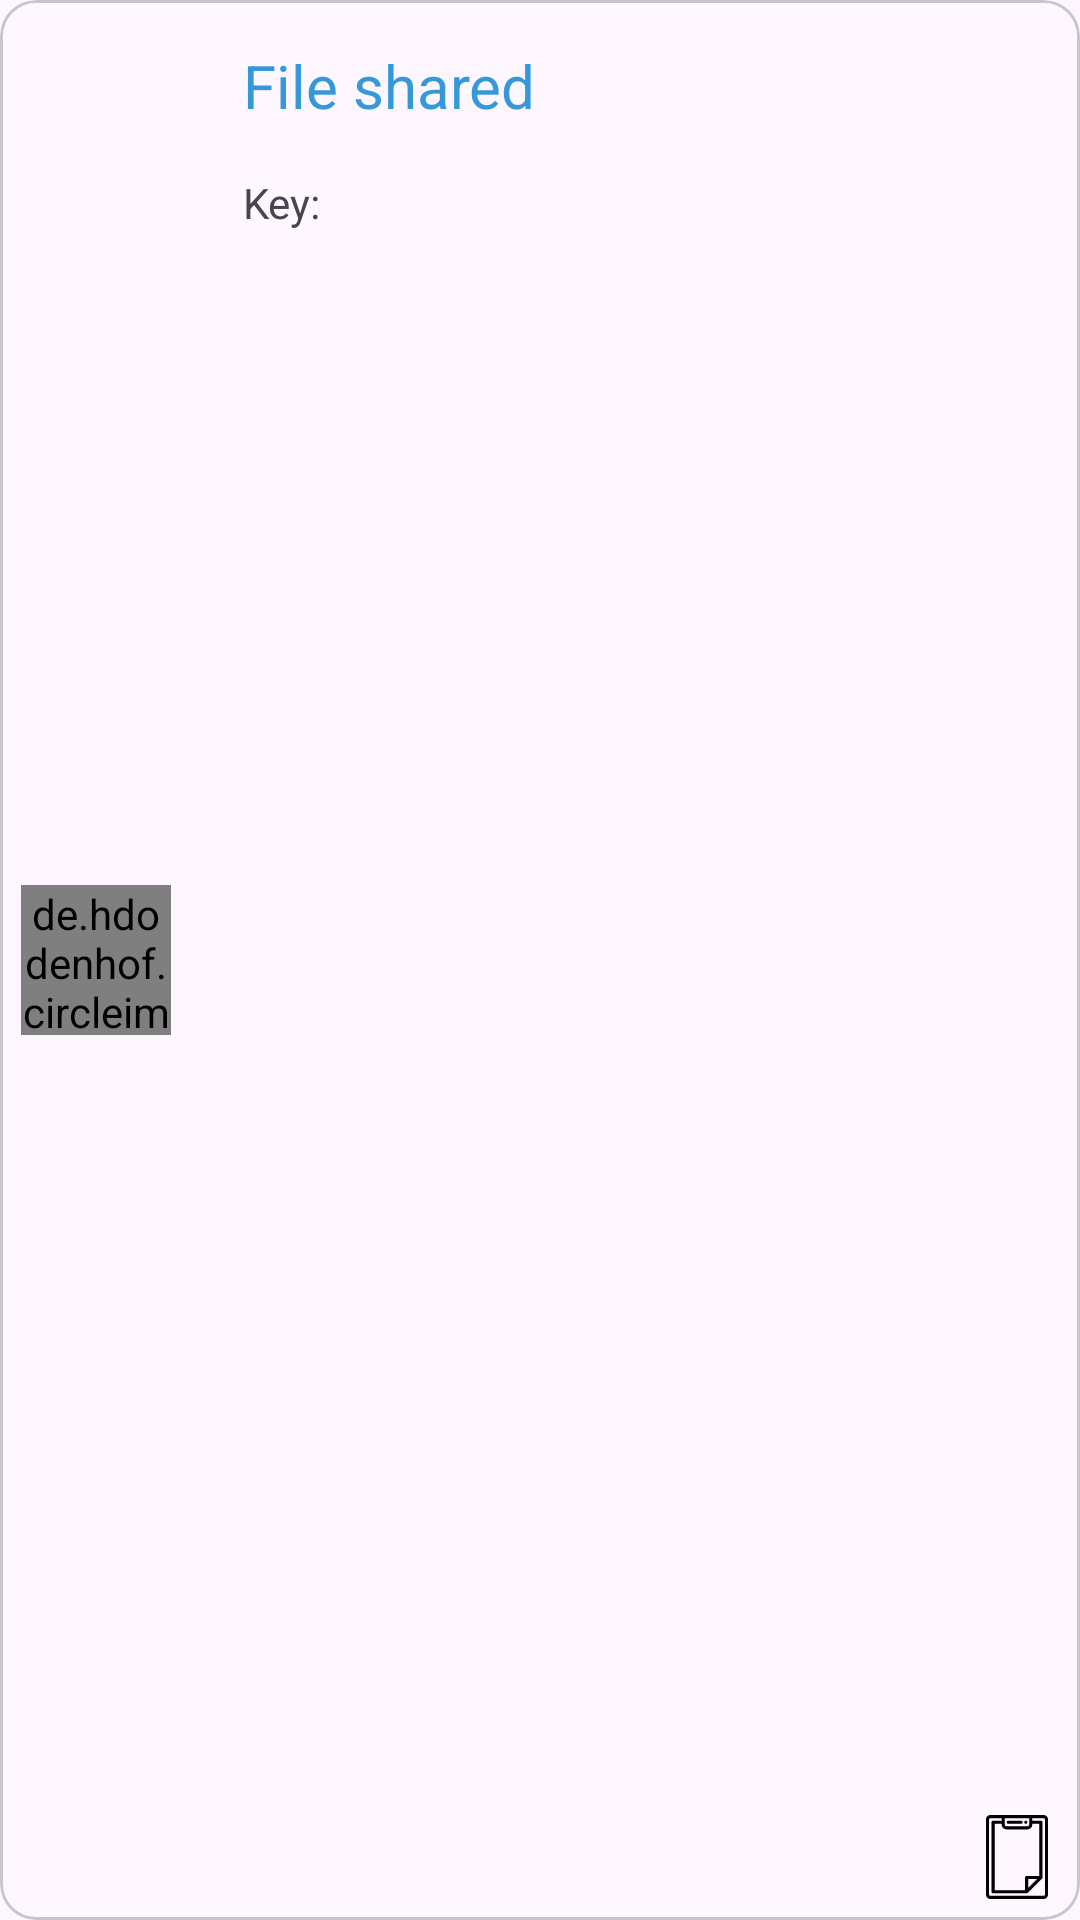

Where to tap for icons on this 1080 × 1920 app screen, as point (x, y):
clipboard: point (1017, 1857)
